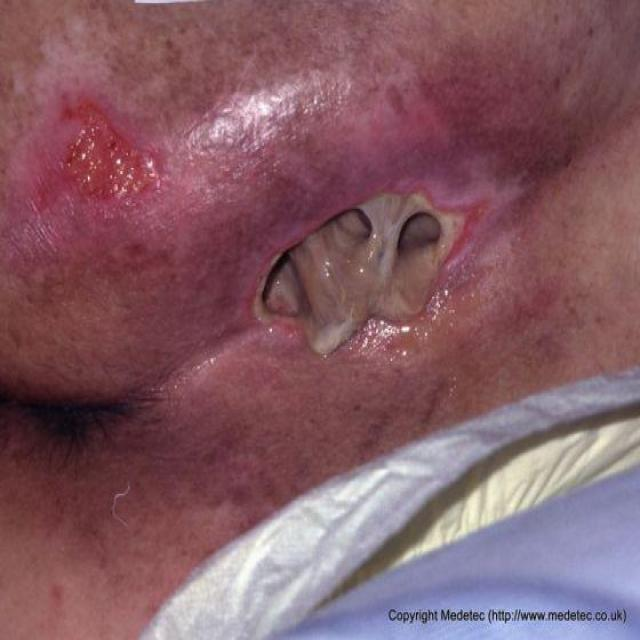Unstageable: (261, 193, 462, 354)
stage-2: (33, 104, 163, 211)
